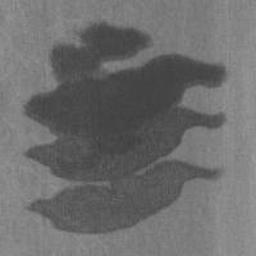Oil spot: (22, 22, 228, 234)
